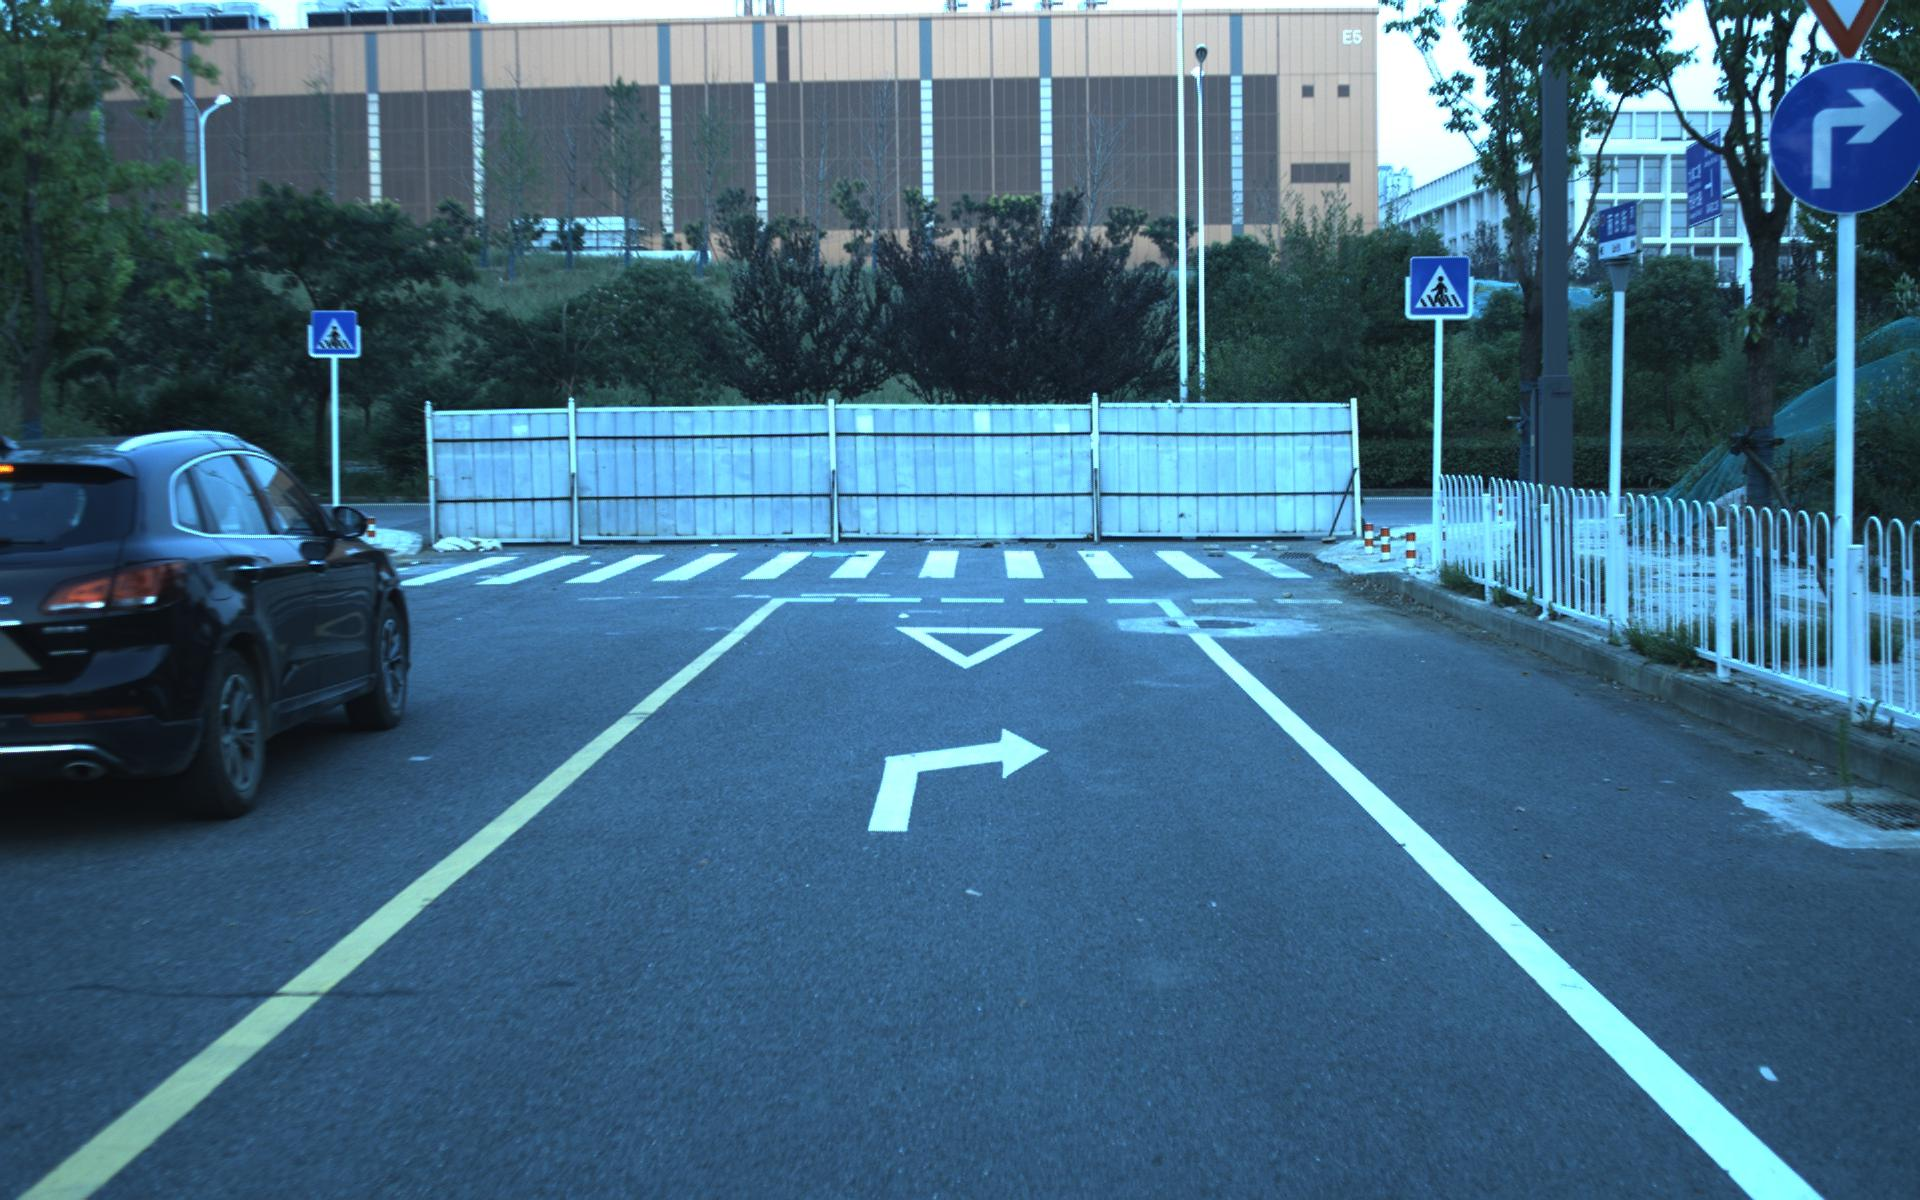Car: (1, 413, 424, 835)
